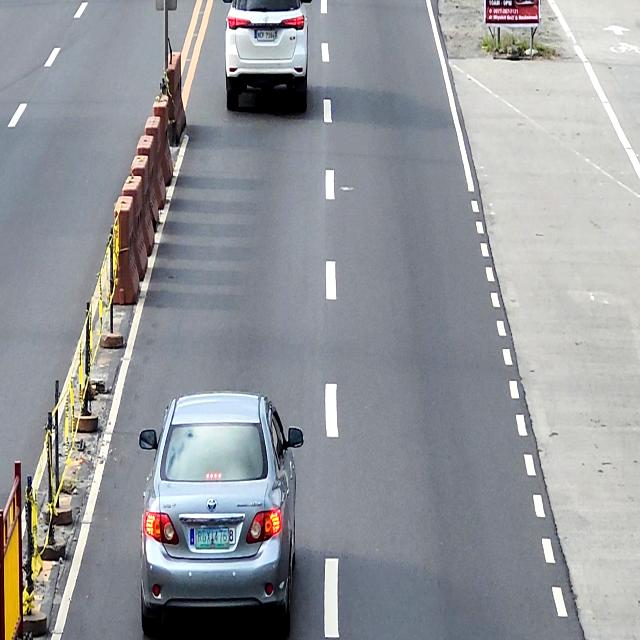Car: (136, 391, 305, 640), (221, 0, 312, 119)
License-Plate: (193, 526, 230, 550), (257, 30, 276, 42)
